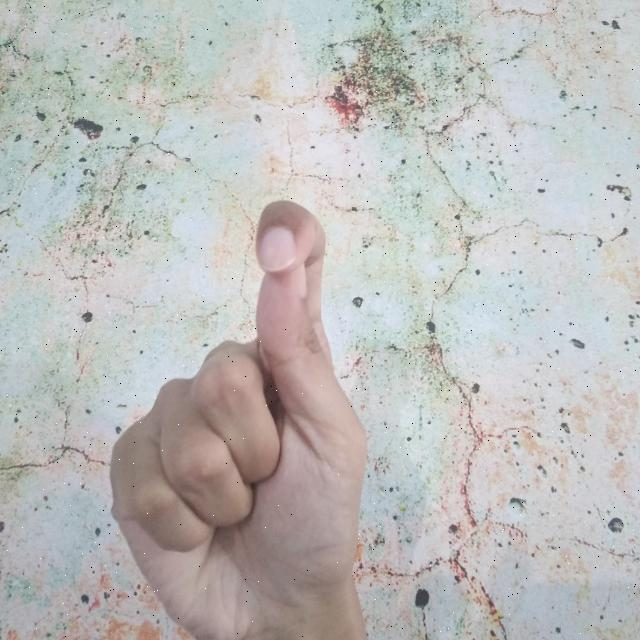T: (101, 194, 378, 640)
